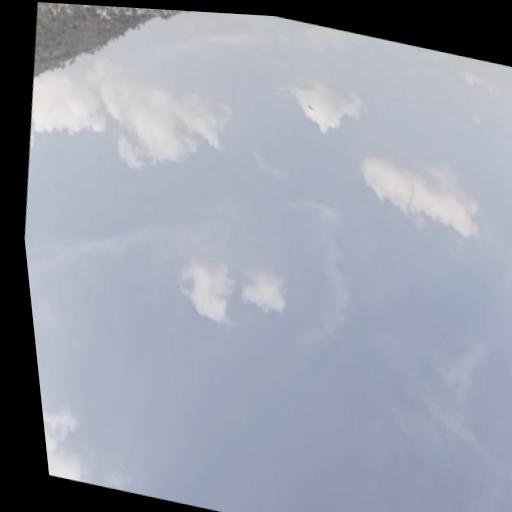drones: (301, 97, 318, 117)
